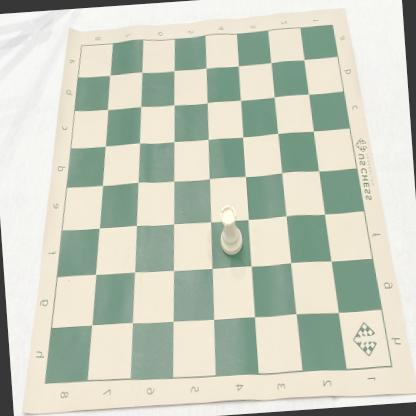white-rook: (217, 204, 244, 258)
